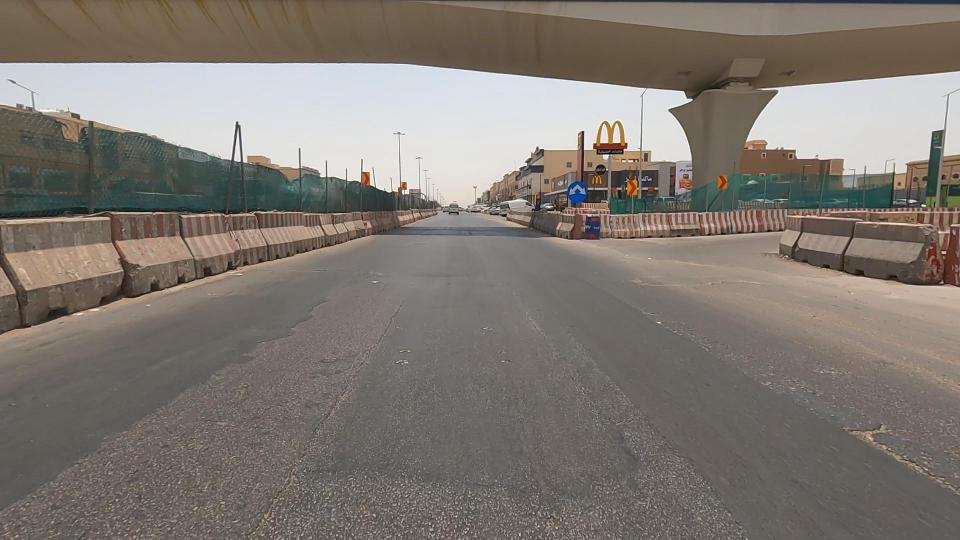CONSTRUCTION_ROAD: (0, 75, 275, 355), (566, 129, 867, 284), (144, 117, 337, 311), (735, 168, 960, 328), (254, 151, 456, 274), (500, 168, 655, 271)
